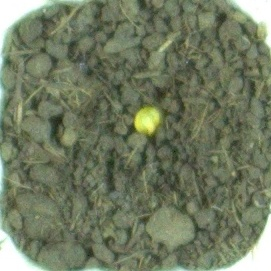chilli seed: (131, 104, 164, 136)
